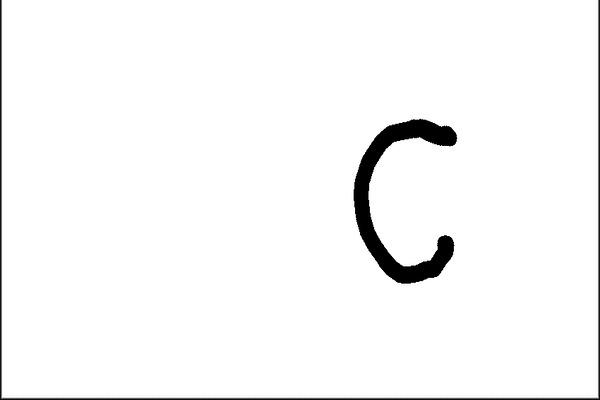C: (347, 111, 473, 287)
